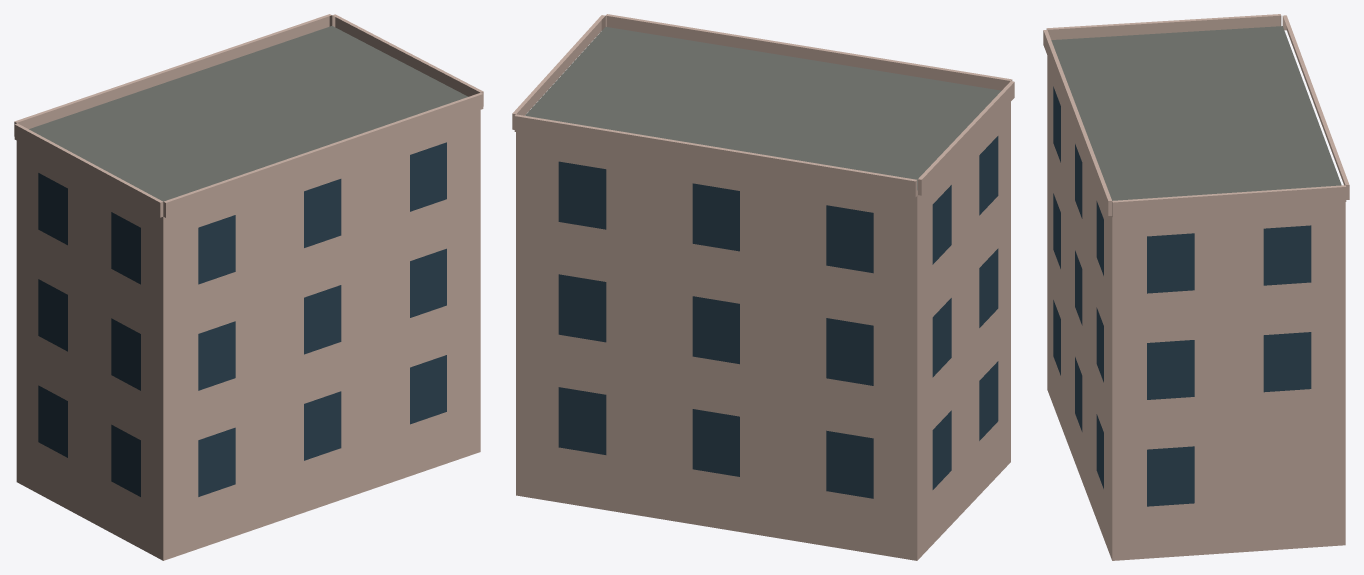
3 views of the same model, side by side, from view 1: azimuth 30°, elevation 25°; view 2: azimuth 150°, elevation 25°; view 3: azimuth 270°, elevation 25° (orthographic). The views are drawn at different scales.
Visible parts, largest first — view 1: Footprint 0 / surface 2, Footprint 0 / surface 1, Inset glazing, Facade bay volumes; view 2: Footprint 0 / surface 2, Footprint 0 / surface 1, Inset glazing, Facade bay volumes; view 3: Footprint 0 / surface 2, Footprint 0 / surface 1, Inset glazing, Facade bay volumes.
Part boxes in pixels (left/top/right/bottom): Footprint 0 / surface 2: left=16, top=110, right=480, bottom=560; Footprint 0 / surface 1: left=29, top=26, right=468, bottom=201; Inset glazing: left=38, top=142, right=446, bottom=496; Facade bay volumes: left=14, top=14, right=483, bottom=217; Footprint 0 / surface 2: left=516, top=102, right=1010, bottom=560; Footprint 0 / surface 1: left=525, top=27, right=1001, bottom=190; Inset glazing: left=558, top=136, right=998, bottom=498; Facade bay volumes: left=512, top=14, right=1014, bottom=197; Footprint 0 / surface 2: left=1047, top=56, right=1345, bottom=560; Footprint 0 / surface 1: left=1051, top=26, right=1341, bottom=200; Inset glazing: left=1053, top=86, right=1311, bottom=506; Facade bay volumes: left=1043, top=14, right=1349, bottom=217.
Bounding box in the file's own units: 13.46 × 11.99 × 9.23.
